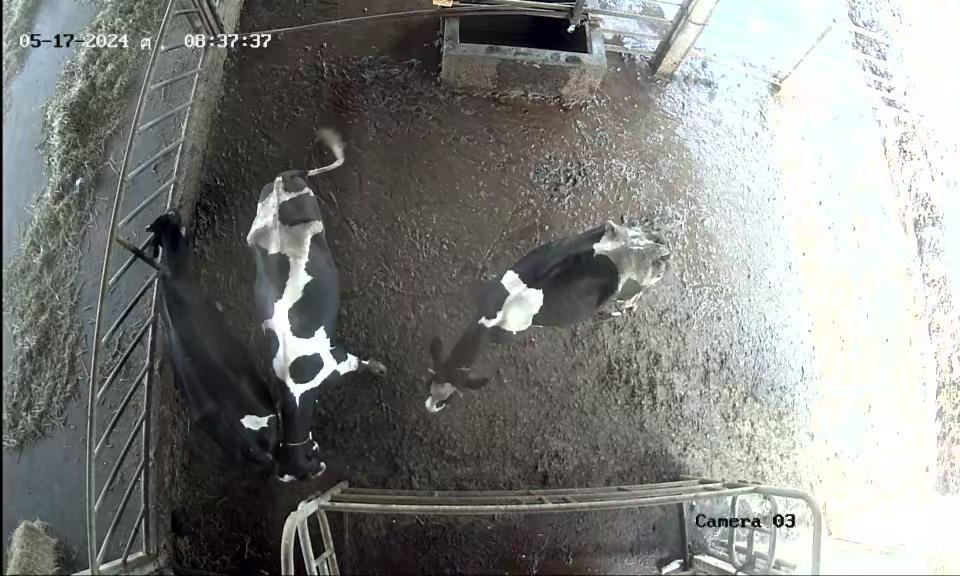stand: (409, 171, 697, 417), (238, 128, 398, 485), (142, 205, 282, 491)
